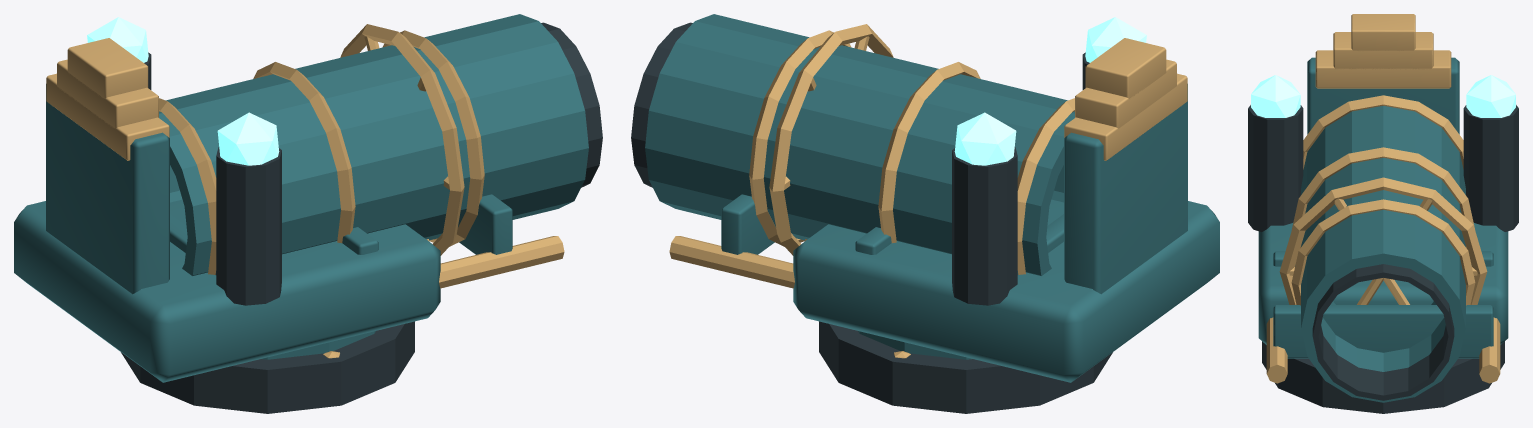
The model's file is evolution-torpedo-split.glb.
3 views of the same model, side by side, from view 1: azimuth 30°, elevation 25°; view 2: azimuth 150°, elevation 25°; view 3: azimuth 270°, elevation 25° (orthographic). The views are drawn at different scales.
Visible parts, largest first — view 1: evolution-torpedo-split / Paint | armory deep Hanseatic enam, evolution-torpedo-split / Structure | armory dark pressure s, evolution-torpedo-split / Brass | armory machined champagne , Runtime flywheel X | evolution-torpedo-split, evolution-torpedo-split / Lamp | armory pale electric mint; view 2: evolution-torpedo-split / Paint | armory deep Hanseatic enam, evolution-torpedo-split / Structure | armory dark pressure s, evolution-torpedo-split / Brass | armory machined champagne , Runtime flywheel X | evolution-torpedo-split, evolution-torpedo-split / Lamp | armory pale electric mint; view 3: evolution-torpedo-split / Paint | armory deep Hanseatic enam, evolution-torpedo-split / Structure | armory dark pressure s, evolution-torpedo-split / Brass | armory machined champagne , Runtime flywheel X | evolution-torpedo-split, evolution-torpedo-split / Lamp | armory pale electric mint.
Boxes of the visible parts, left/top/right/bottom form: evolution-torpedo-split / Paint | armory deep Hanseatic enam: left=14, top=14, right=588, bottom=382; evolution-torpedo-split / Structure | armory dark pressure s: left=121, top=22, right=602, bottom=413; evolution-torpedo-split / Brass | armory machined champagne : left=46, top=30, right=564, bottom=358; Runtime flywheel X | evolution-torpedo-split: left=340, top=24, right=464, bottom=255; evolution-torpedo-split / Lamp | armory pale electric mint: left=87, top=17, right=279, bottom=165; evolution-torpedo-split / Paint | armory deep Hanseatic enam: left=645, top=14, right=1219, bottom=382; evolution-torpedo-split / Structure | armory dark pressure s: left=631, top=22, right=1112, bottom=413; evolution-torpedo-split / Brass | armory machined champagne : left=669, top=30, right=1187, bottom=358; Runtime flywheel X | evolution-torpedo-split: left=769, top=24, right=893, bottom=255; evolution-torpedo-split / Lamp | armory pale electric mint: left=954, top=17, right=1146, bottom=165; evolution-torpedo-split / Paint | armory deep Hanseatic enam: left=1258, top=57, right=1508, bottom=402; evolution-torpedo-split / Structure | armory dark pressure s: left=1248, top=105, right=1518, bottom=413; evolution-torpedo-split / Brass | armory machined champagne : left=1266, top=14, right=1500, bottom=383; Runtime flywheel X | evolution-torpedo-split: left=1279, top=177, right=1487, bottom=304; evolution-torpedo-split / Lamp | armory pale electric mint: left=1251, top=75, right=1515, bottom=117.
Bounding box in the file's own units: 2.96 × 1.98 × 1.76.
